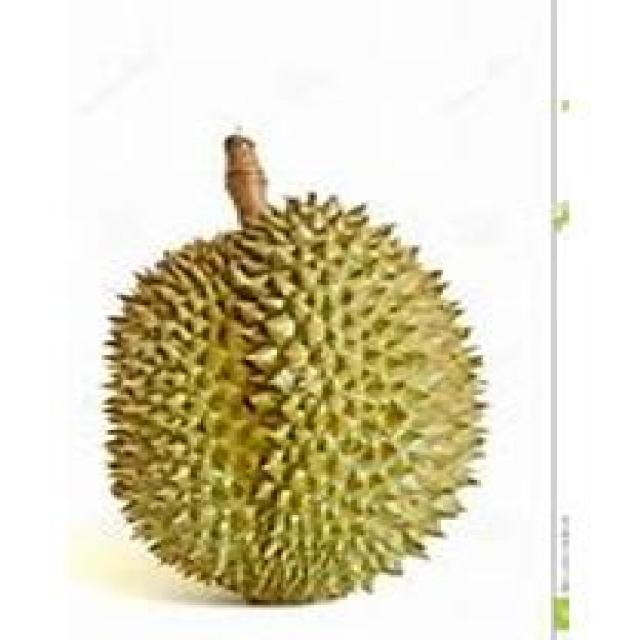fruit: (65, 210, 443, 632)
